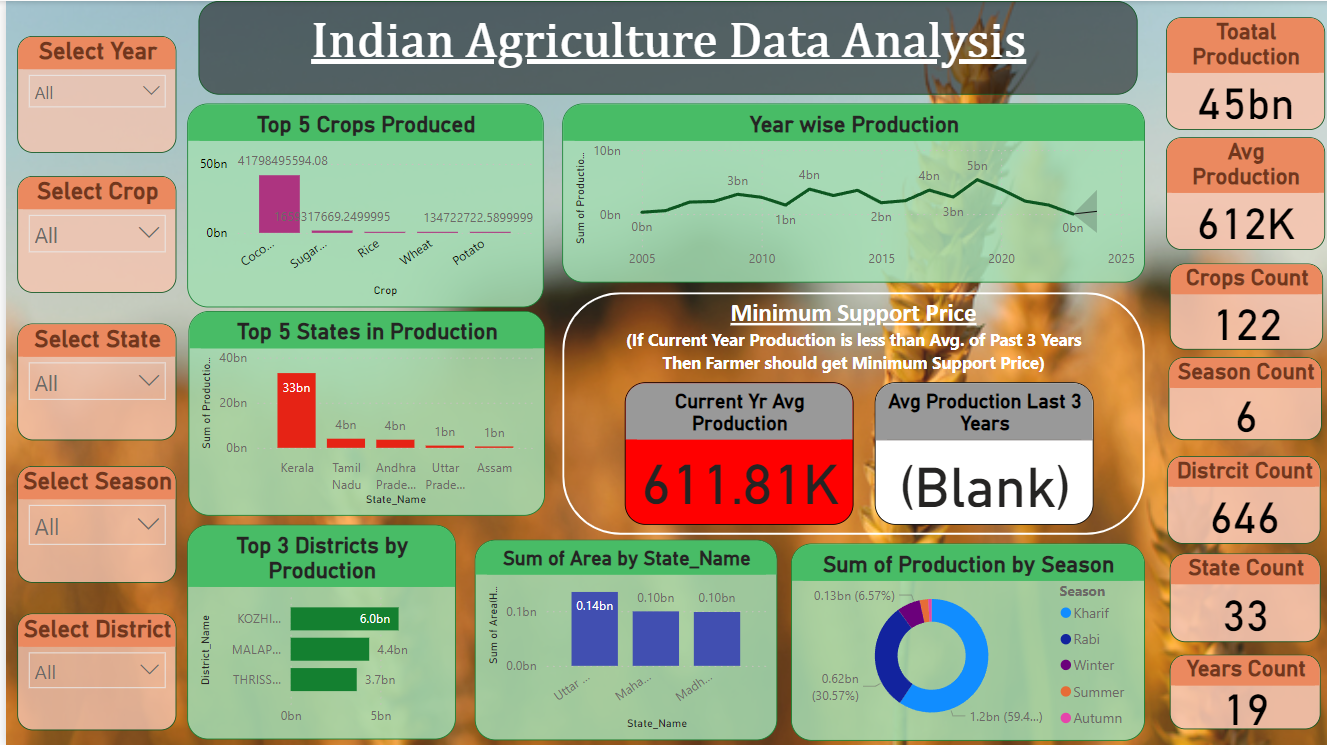

What the dashboard file says about the page in this screenshot:
{"tool":"powerbi","page":{"name":"Home Page","canvas":[1280,720],"ordinal":2},"visuals":[{"type":"textbox","box":[185.8,0,906,90.5],"z":0},{"type":"slicer","title":"Select Year","fields":{"Values":["apy_1.Crop_Year"]},"box":[11,34.3,153.7,112.5],"z":1000},{"type":"slicer","title":"Select Crop","fields":{"Values":["apy_1.Crop"]},"box":[11,168.8,153.7,112.5],"z":2000},{"type":"slicer","title":"Select State","fields":{"Values":["apy_1.State_Name"]},"box":[11,311.5,153.7,112.5],"z":3000},{"type":"slicer","title":"Select Season","fields":{"Values":["apy_1.Season"]},"box":[11,448.7,153.7,112.5],"z":4000},{"type":"slicer","title":"Select District","fields":{"Values":["apy_1.District_Name"]},"box":[11,591.4,153.7,112.5],"z":5000},{"type":"columnChart","title":"Top 5 Crops Produced","fields":{"Category":["apy_1.Crop"],"Y":["Sum(apy_1.Production(Tons))"]},"box":[174.9,98.9,343.8,196.6],"z":6000},{"type":"columnChart","title":"Top 5 States in Production","fields":{"Category":["apy_1.State_Name"],"Y":["Sum(apy_1.Production(Tons))"]},"box":[176.1,299.2,343.8,197.9],"z":7000},{"type":"donutChart","title":"Sum of Production by Season","fields":{"Y":["Sum(apy_1.Production(Tons))"],"Category":["apy_1.Season"]},"box":[757.6,523.6,341.4,190.6],"z":8000},{"type":"barChart","title":"Top 3 Districts by Production","fields":{"Category":["apy_1.District_Name"],"Y":["Sum(apy_1.Production(Tons))"]},"box":[174.9,505.5,259.4,207.5],"z":9000},{"type":"lineChart","title":"Year wise Production","fields":{"Category":["apy_1.Crop_Year"],"Y":["Sum(apy_1.Production(Tons))"]},"box":[536.9,98.9,562.2,172.5],"z":10000},{"type":"shape","box":[536.9,281.1,562.2,234],"z":11000},{"type":"textbox","box":[536.9,281.1,562.2,86.9],"z":12000},{"type":"card","title":"Current Yr Avg Production","fields":{"Values":["apy_1.Avg Production"]},"box":[597.2,368,220.8,137.5],"z":13000},{"type":"card","title":"Avg Production Last 3 Years","fields":{"Values":["apy_1.AverageProductionLastThreeYears"]},"box":[838.5,368,211.1,137.5],"z":14000},{"type":"card","title":"Toatal Production","fields":{"Values":["apy_1.Total Production"]},"box":[1119.6,15.7,153.2,108.6],"z":15000},{"type":"card","title":"Avg Production","fields":{"Values":["apy_1.Avg Production"]},"box":[1119.6,131.5,153.2,108.6],"z":16000},{"type":"card","title":"State Count","fields":{"Values":["apy_1.State Count"]},"box":[1123.2,533.2,146,85.7],"z":17000},{"type":"card","title":"Distrcit Count","fields":{"Values":["apy_1.Distinct District"]},"box":[1120.8,439.1,148.4,84.5],"z":18000},{"type":"card","title":"Season Count","fields":{"Values":["apy_1.Season Count"]},"box":[1122,343.8,148.4,79.6],"z":19000},{"type":"card","title":"Crops Count","fields":{"Values":["apy_1.No. of Crops"]},"box":[1123.2,253.4,148.4,83.2],"z":20000},{"type":"card","title":"Years Count","fields":{"Values":["apy_1.Years Count"]},"box":[1123.2,631,146,72.4],"z":21000},{"type":"columnChart","title":"Sum of Area by State_Name","fields":{"Category":["apy_1.State_Name"],"Y":["Sum(apy_1.Area(Hectare))"]},"box":[452.8,520.1,292.3,193.5],"z":22000}]}

Visuals, with their boxes in screenshot pixels (x1, y1, x2, y2), scaled from the page's 1280x720 canvas onto the 1327x745 screenshot:
textbox: BBox(193, 0, 1132, 94)
"Select Year" slicer: BBox(11, 35, 171, 152)
"Select Crop" slicer: BBox(11, 175, 171, 291)
"Select State" slicer: BBox(11, 322, 171, 439)
"Select Season" slicer: BBox(11, 464, 171, 581)
"Select District" slicer: BBox(11, 612, 171, 728)
"Top 5 Crops Produced" columnChart: BBox(181, 102, 538, 306)
"Top 5 States in Production" columnChart: BBox(183, 310, 539, 514)
"Sum of Production by Season" donutChart: BBox(785, 542, 1139, 739)
"Top 3 Districts by Production" barChart: BBox(181, 523, 450, 738)
"Year wise Production" lineChart: BBox(557, 102, 1139, 281)
shape: BBox(557, 291, 1139, 533)
textbox: BBox(557, 291, 1139, 381)
"Current Yr Avg Production" card: BBox(619, 381, 848, 523)
"Avg Production Last 3 Years" card: BBox(869, 381, 1088, 523)
"Toatal Production" card: BBox(1161, 16, 1320, 129)
"Avg Production" card: BBox(1161, 136, 1320, 248)
"State Count" card: BBox(1164, 552, 1316, 640)
"Distrcit Count" card: BBox(1162, 454, 1316, 542)
"Season Count" card: BBox(1163, 356, 1317, 438)
"Crops Count" card: BBox(1164, 262, 1318, 348)
"Years Count" card: BBox(1164, 653, 1316, 728)
"Sum of Area by State_Name" columnChart: BBox(469, 538, 772, 738)
